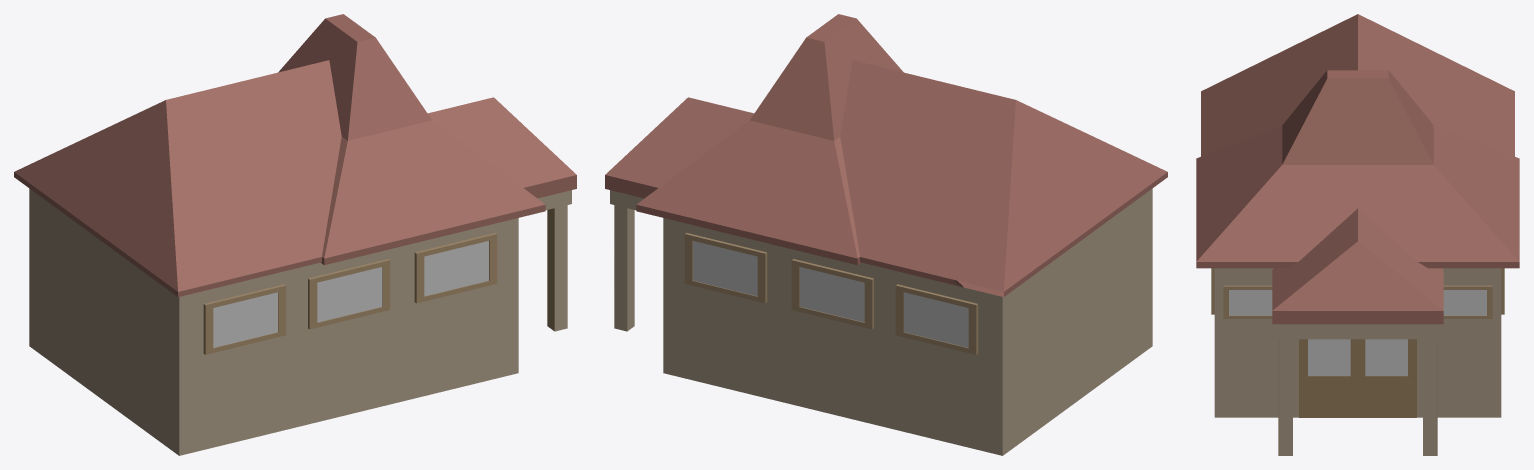
File: G_sasanahinggil Dwi abad.fbx
The picture shows the model from 3 angles, left to right: view 1: azimuth 30°, elevation 25°; view 2: azimuth 150°, elevation 25°; view 3: azimuth 270°, elevation 25°; orthographic projection. The views are drawn at different scales.
Parts seen in each view (by area): view 1: G_sasanahinggil Dwi abad; view 2: G_sasanahinggil Dwi abad; view 3: G_sasanahinggil Dwi abad.
Part boxes in pixels (bbox=[...]): G_sasanahinggil Dwi abad: bbox=[14, 14, 576, 455]; G_sasanahinggil Dwi abad: bbox=[605, 14, 1167, 455]; G_sasanahinggil Dwi abad: bbox=[1196, 14, 1519, 455].
Bounding box in the file's own units: 443 × 304 × 297.
1 material, 1 textured.
